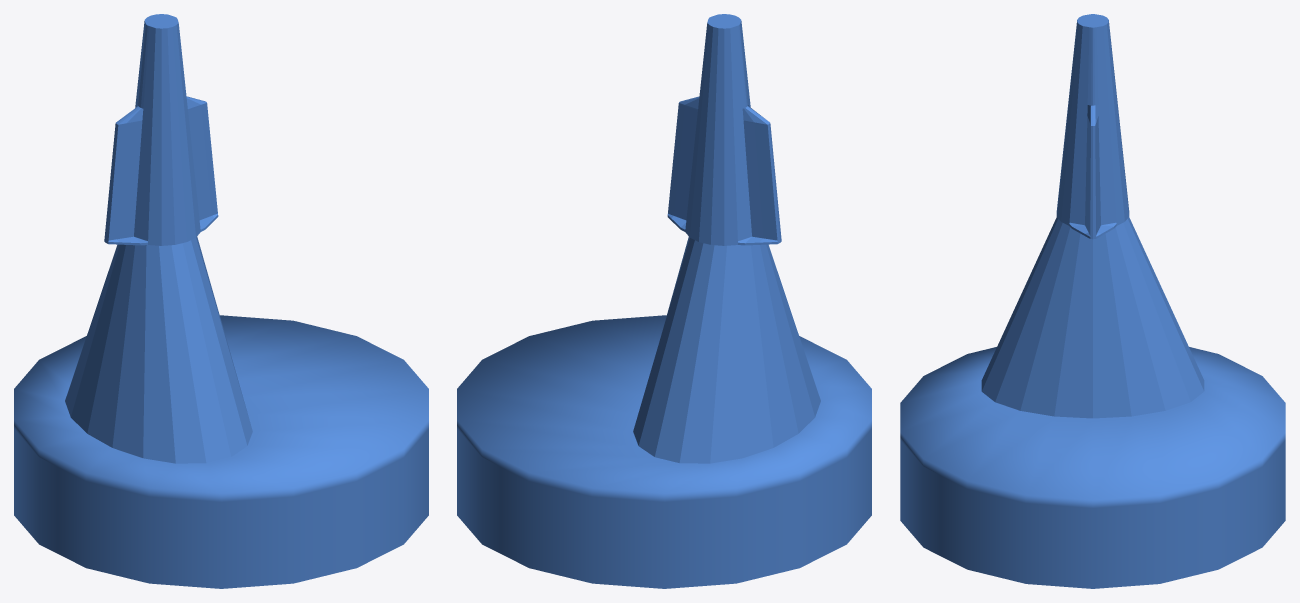
3 renders of one model, left to right at view 1: azimuth 30°, elevation 25°; view 2: azimuth 150°, elevation 25°; view 3: azimuth 270°, elevation 25°, orthographic. The views are drawn at different scales.
Parts seen in each view (by area): view 1: Cylinder001, Object002; view 2: Cylinder001, Object002; view 3: Cylinder001, Object002.
Boxes of the visible parts, x1,y1,x2,y2 form: Cylinder001: (14, 236, 428, 588); Object002: (104, 14, 218, 245); Cylinder001: (457, 236, 871, 588); Object002: (667, 14, 781, 245); Cylinder001: (900, 217, 1285, 588); Object002: (1056, 14, 1129, 239).
Bounding box in the file's own units: 40.37 × 52.16 × 39.76.
